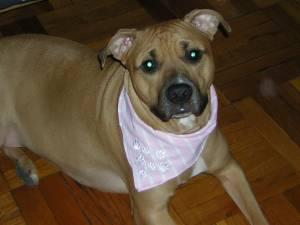dog-american_pit_bull_terrier: (97, 7, 230, 121)
